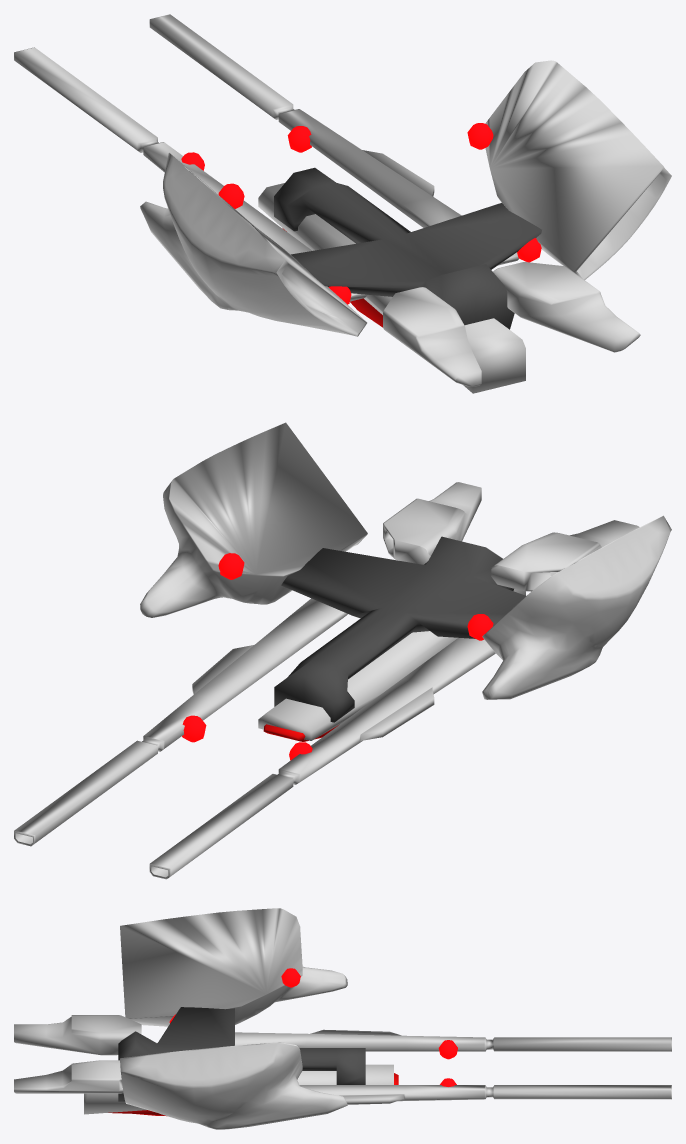
Rendered from Target.fbx.
The picture shows the model from 3 angles, top to bottom: view 1: azimuth 30°, elevation 25°; view 2: azimuth 150°, elevation 25°; view 3: azimuth 270°, elevation 25°; orthographic projection. The views are drawn at different scales.
Visible parts, largest first — view 1: ship; view 2: ship; view 3: ship.
Boxes of the visible parts, x1=… form: ship: x1=14, y1=14, x2=671, y2=393; ship: x1=14, y1=422, x2=671, y2=879; ship: x1=14, y1=908, x2=671, y2=1129.
Bounding box in the file's own units: 2.88 × 1.19 × 5.16.
